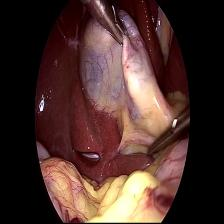Grasper: (143, 111, 191, 159), (94, 0, 132, 49)
